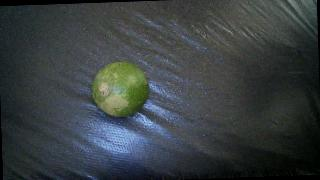DESECHO: (91, 60, 150, 117)
